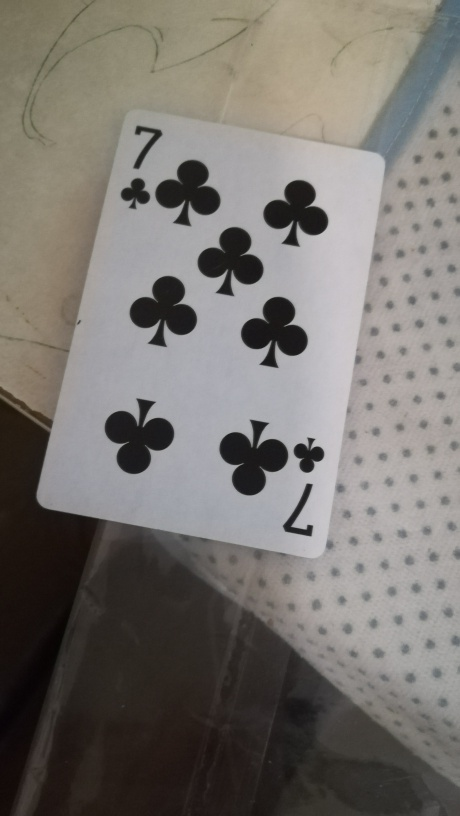mh 7: (37, 108, 389, 567)
